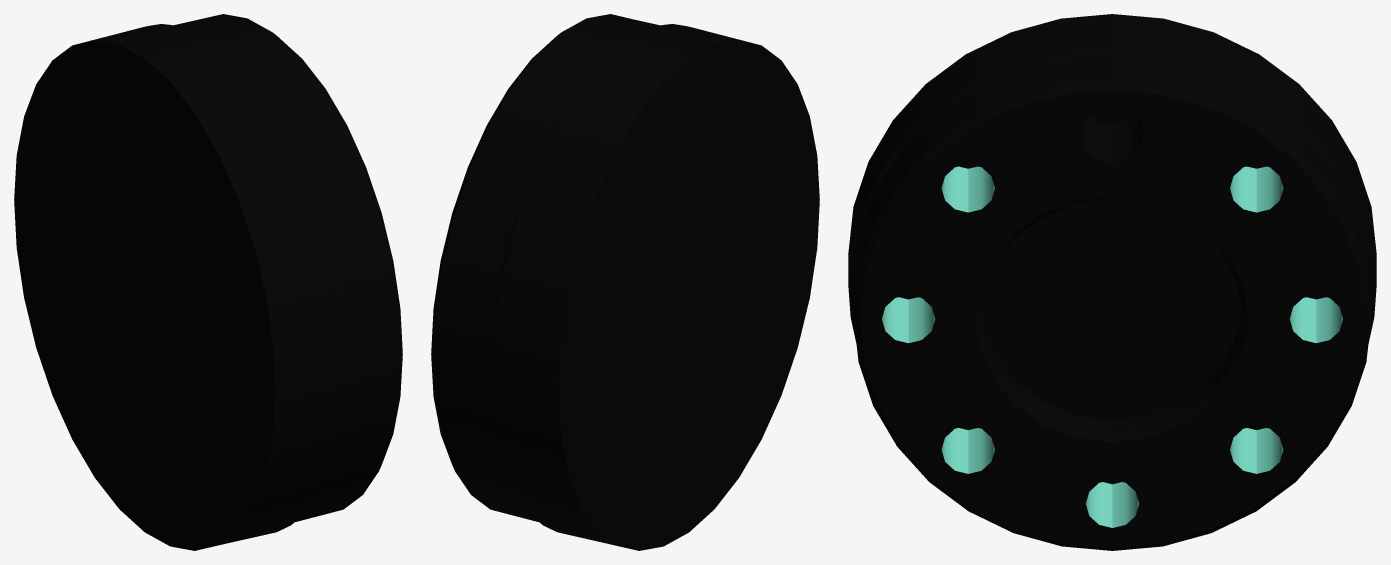
3 views of the same model, side by side, from view 1: azimuth 30°, elevation 25°; view 2: azimuth 150°, elevation 25°; view 3: azimuth 270°, elevation 25° (orthographic).
Parts seen in each view (by area): view 1: Mesh_0; view 2: Mesh_0; view 3: Mesh_0.
Boxes of the visible parts, box(x1,y1,x2,y2) form: Mesh_0: box(14, 14, 402, 550); Mesh_0: box(431, 14, 819, 550); Mesh_0: box(848, 14, 1376, 550).
Size of the model in its own units: 0.012 by 0.0408 by 0.0408.
